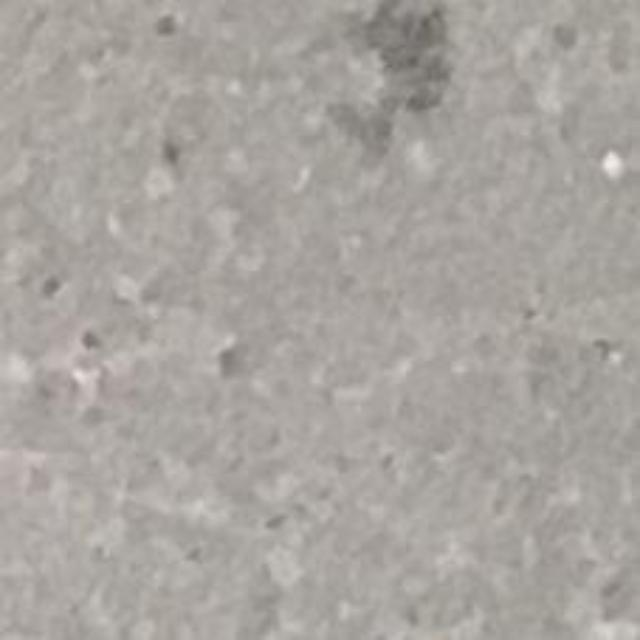peeling plaster: (359, 0, 453, 118)
